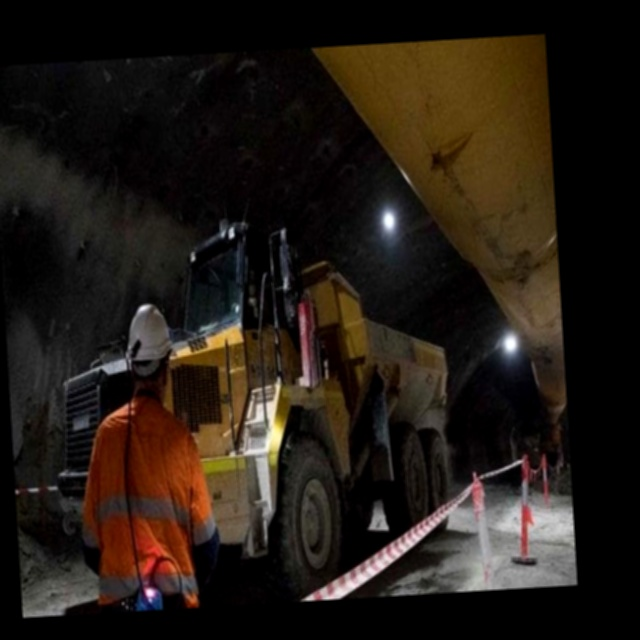Con_Casco: (125, 302, 171, 395)
Con_Chaleco: (94, 404, 197, 605)
